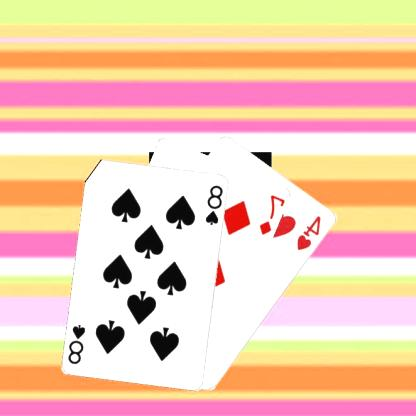4H: (296, 212, 325, 252)
7D: (258, 192, 287, 236)
8S: (67, 321, 89, 365), (205, 182, 226, 226)
